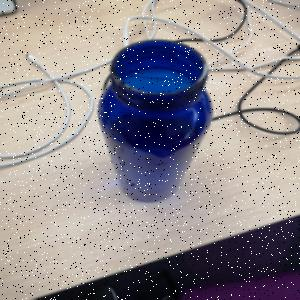Plastic-bottle: (97, 39, 217, 205)
